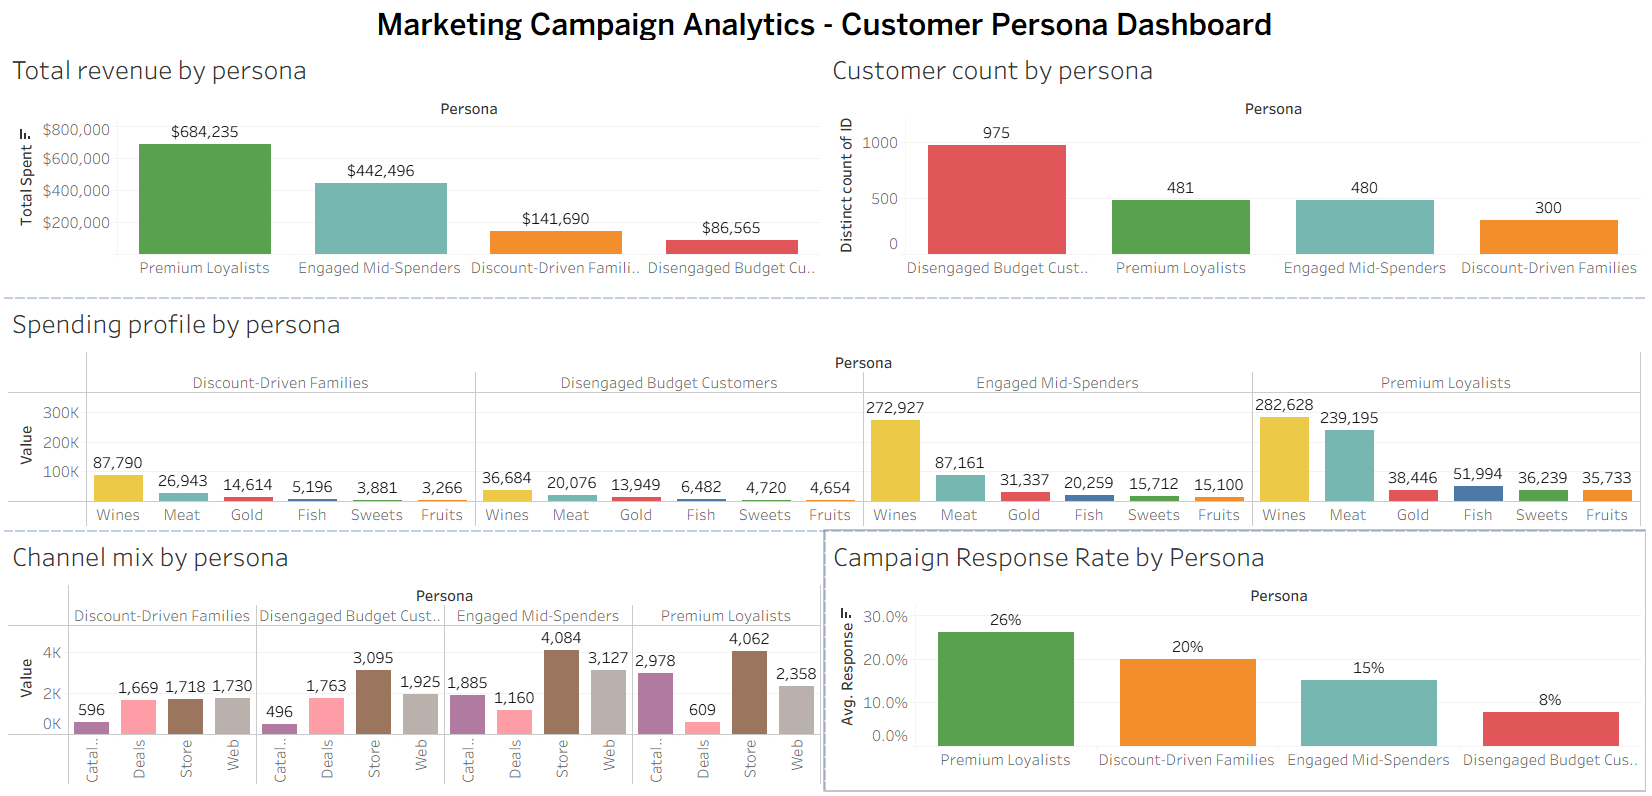

The page's visual inventory and layout, read from the dashboard file:
{"tool":"tableau","page":{"name":"Customer Personas","canvas":[1000,1000],"units":"permille","ordinal":0},"visuals":[{"type":"text","box":[4.8,10,990.3,48.7]},{"type":"worksheet","title":"Total revenue by persona","mark":"Automatic","rows":["Total_Spent"],"cols":["Persona"],"box":[4.8,58.7,495.1,317.1]},{"type":"worksheet","title":"Customer count by persona","mark":"Automatic","rows":["ID"],"cols":["Persona"],"box":[500,58.7,495.2,317.1]},{"type":"worksheet","title":"Spending profile by persona","mark":"Automatic","cols":["Persona"],"box":[4.8,375.8,990.3,290.9]},{"type":"worksheet","title":"Channel mix by persona","mark":"Automatic","cols":["Persona"],"box":[4.8,666.7,495.2,323.3]},{"type":"worksheet","title":"Campaign Response Rate by Persona","mark":"Automatic","rows":["Response"],"cols":["Persona"],"box":[500,666.7,495.2,323.3]}]}

Visuals, with their boxes on the dashboard's canvas, which has no fixed pixel size, in thousandths of its width and height (x1, y1, x2, y2). These are canvas units, not pixel positions in the 1652x796 screenshot, which may show the page scaled, cropped or inside an application window:
text: Rect(5, 10, 995, 59)
"Total revenue by persona" worksheet: Rect(5, 59, 500, 376)
"Customer count by persona" worksheet: Rect(500, 59, 995, 376)
"Spending profile by persona" worksheet: Rect(5, 376, 995, 667)
"Channel mix by persona" worksheet: Rect(5, 667, 500, 990)
"Campaign Response Rate by Persona" worksheet: Rect(500, 667, 995, 990)
